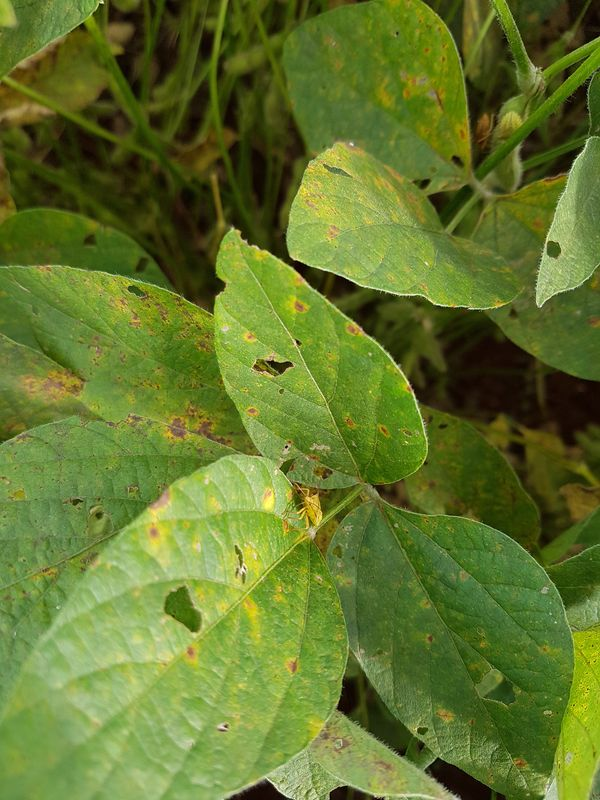Euschistus_heros_ninfa: (280, 479, 333, 532)
